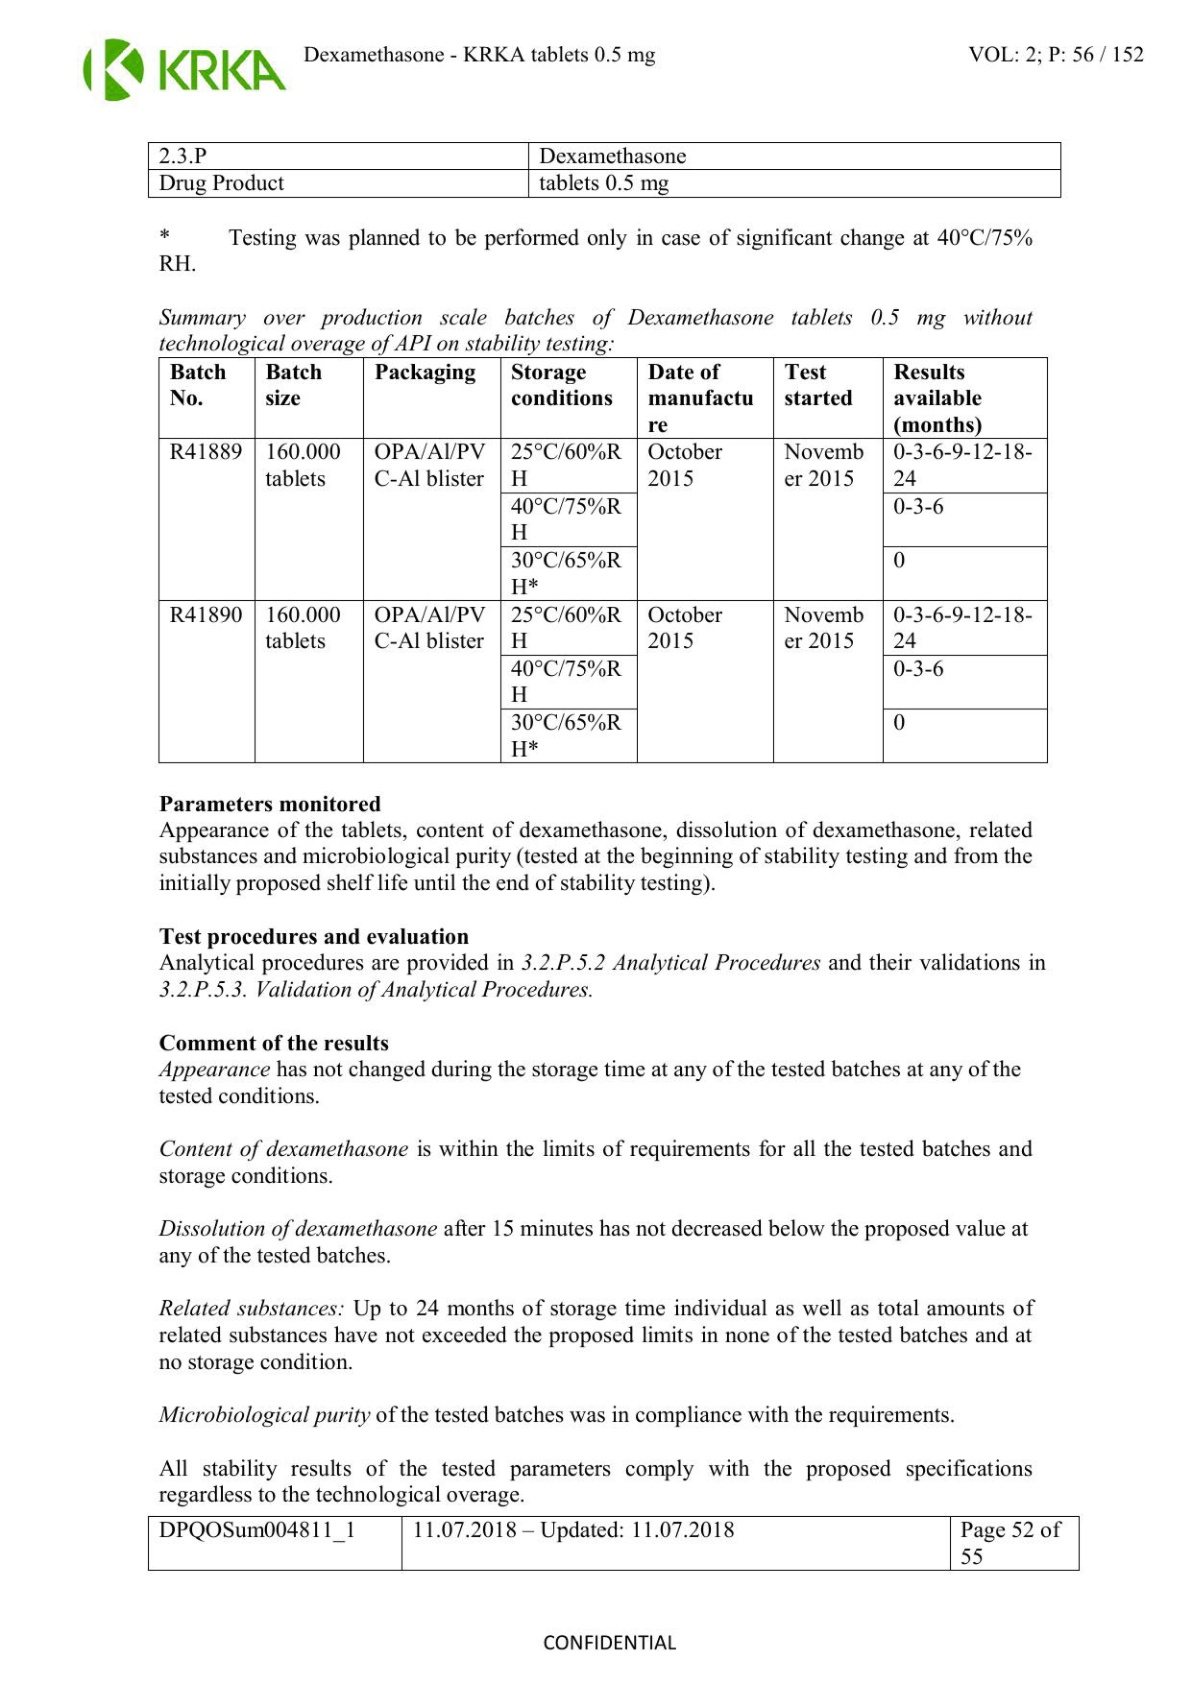full_lined: (146, 1514, 1081, 1572), (147, 141, 1063, 199)
merged_cells: (157, 355, 1048, 765)
